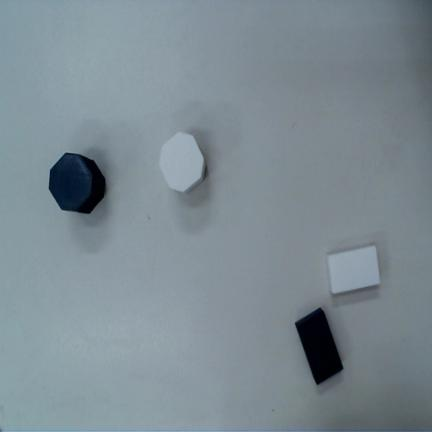Paralelepipedo: (295, 307, 344, 386), (327, 245, 380, 293)
Prisma_hexagonal: (49, 153, 106, 213), (159, 132, 205, 193)
